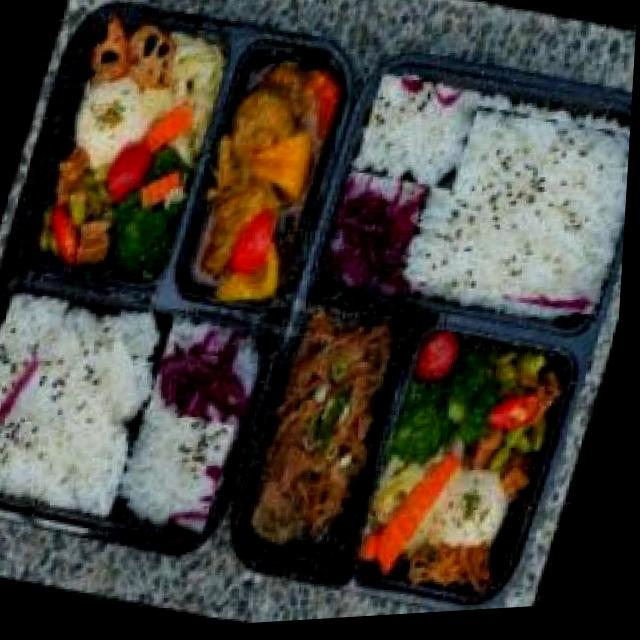rice: (403, 90, 634, 338), (0, 273, 182, 530), (109, 408, 245, 544), (352, 72, 486, 203)
